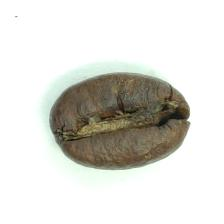NG: (64, 91, 179, 140)
